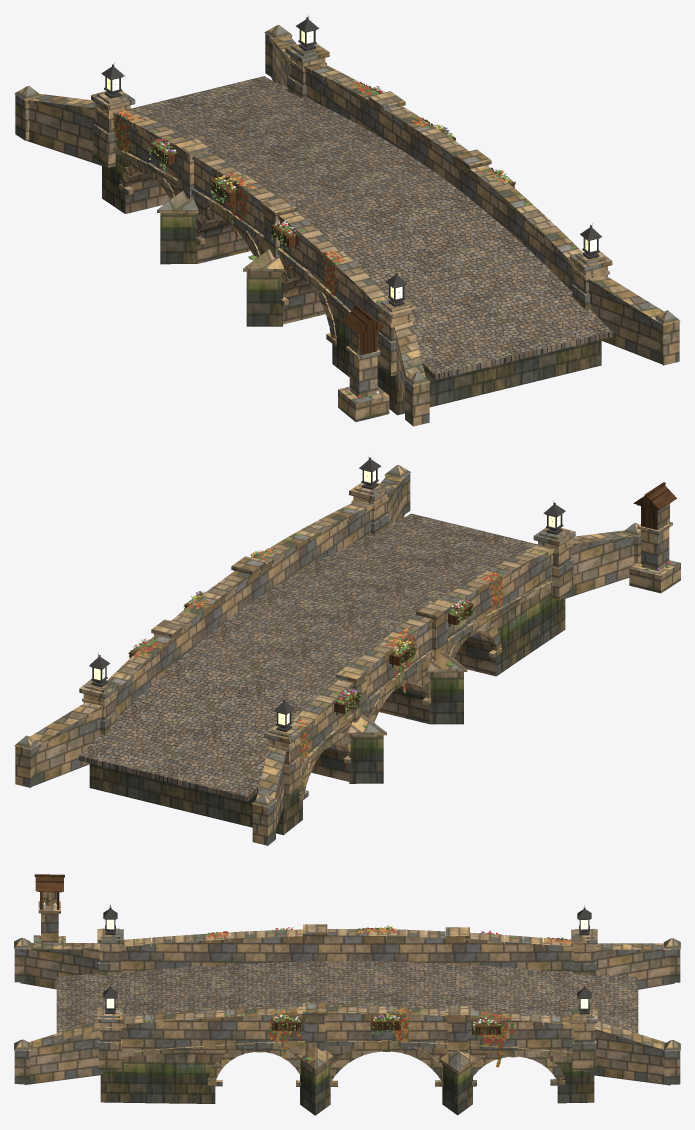
File: bridge.glb
3 views of the same model, one above another, from view 1: azimuth 30°, elevation 25°; view 2: azimuth 150°, elevation 25°; view 3: azimuth 270°, elevation 25° (orthographic). The views are drawn at different scales.
Parts seen in each view (by area): view 1: bridge_body, bridge_plants; view 2: bridge_body, bridge_plants; view 3: bridge_body, bridge_plants.
Part boxes in pixels (x1=…): bridge_body: x1=14, y1=15, x2=680, y2=426; bridge_plants: x1=113, y1=82, x2=576, y2=397; bridge_body: x1=14, y1=456, x2=680, y2=845; bridge_plants: x1=129, y1=507, x2=670, y2=768; bridge_body: x1=14, y1=874, x2=680, y2=1115; bridge_plants: x1=36, y1=925, x2=573, y2=1067.
Bounding box in the file's own units: 9.15 × 3.85 × 19.67.
Materials: 22 (6 with a texture image).
